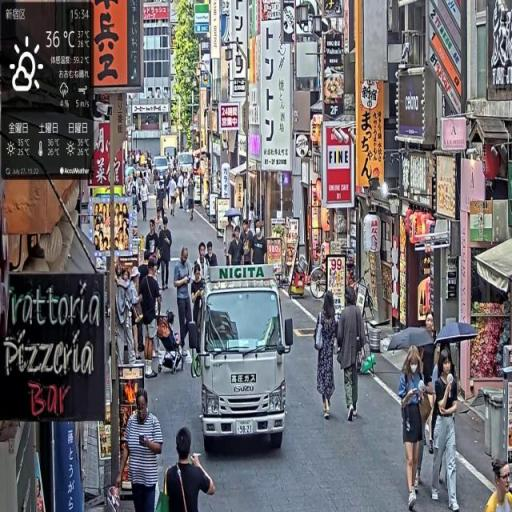person: (399, 347, 432, 512), (432, 349, 463, 512), (124, 388, 164, 512), (336, 284, 370, 424), (164, 426, 217, 512), (313, 291, 341, 422), (140, 257, 164, 372), (174, 247, 195, 362), (482, 457, 512, 512), (159, 217, 175, 294), (253, 224, 267, 274), (229, 227, 245, 269), (140, 175, 151, 224)
